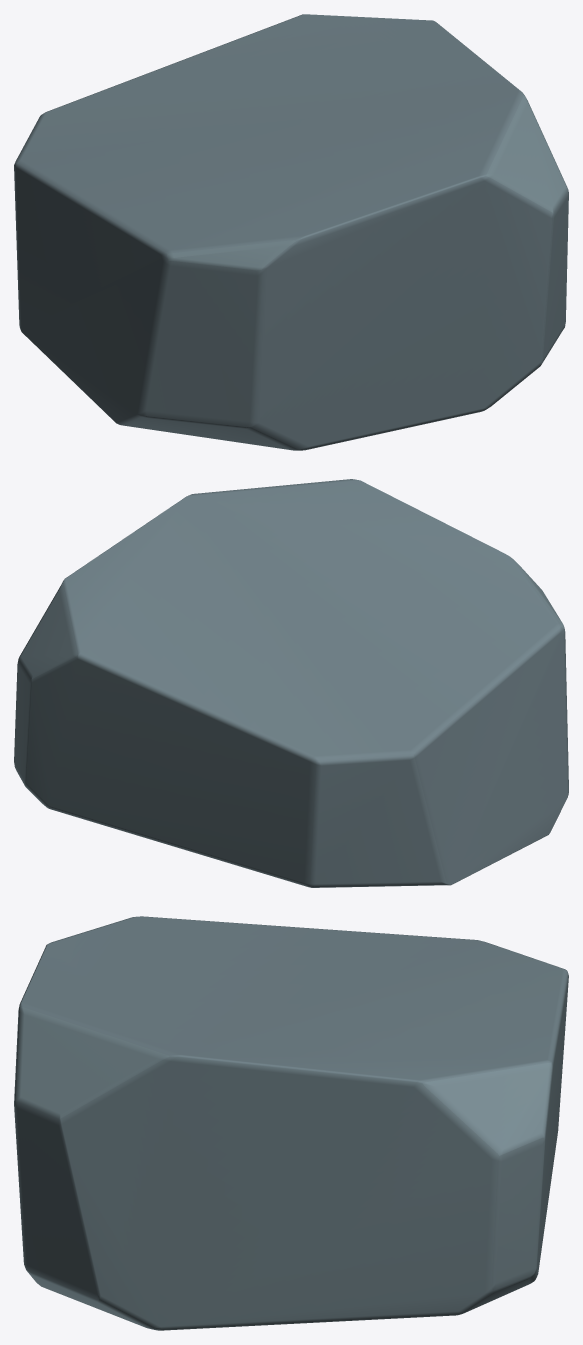
Rendered from rock3_detail-finished.glb.
The picture shows the model from 3 angles, top to bottom: view 1: azimuth 30°, elevation 25°; view 2: azimuth 150°, elevation 25°; view 3: azimuth 270°, elevation 25°; orthographic projection. The views are drawn at different scales.
Visible parts, largest first — view 1: rock3_detail; view 2: rock3_detail; view 3: rock3_detail.
Part boxes in pixels (x1=…): rock3_detail: x1=14, y1=14, x2=568, y2=450; rock3_detail: x1=14, y1=479, x2=568, y2=887; rock3_detail: x1=14, y1=916, x2=568, y2=1330.
Size of the model in its own units: 2.14 by 1.22 by 2.11.
